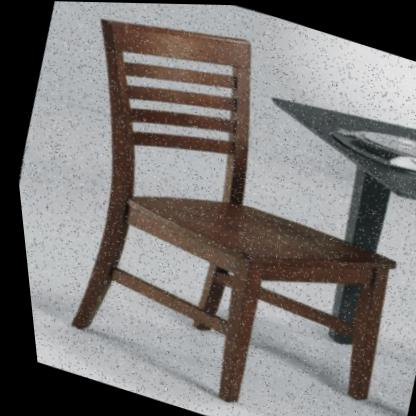Chair: (0, 0, 416, 416)
Table: (189, 60, 416, 365)
